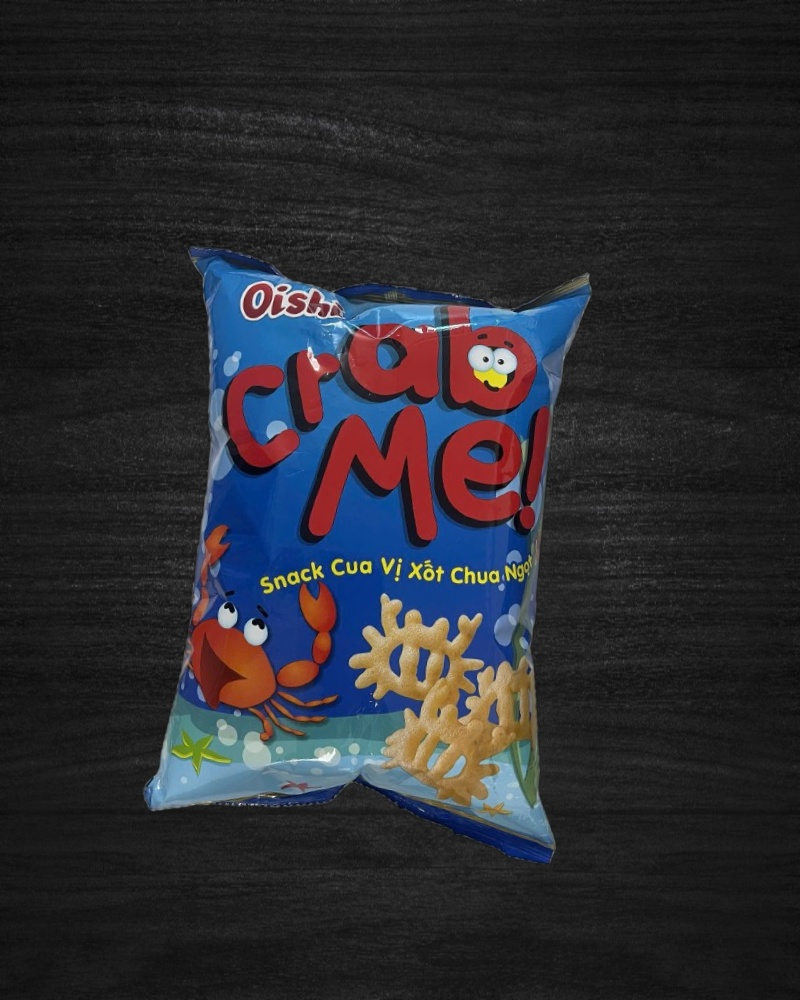Snack chay: (138, 238, 606, 867)
